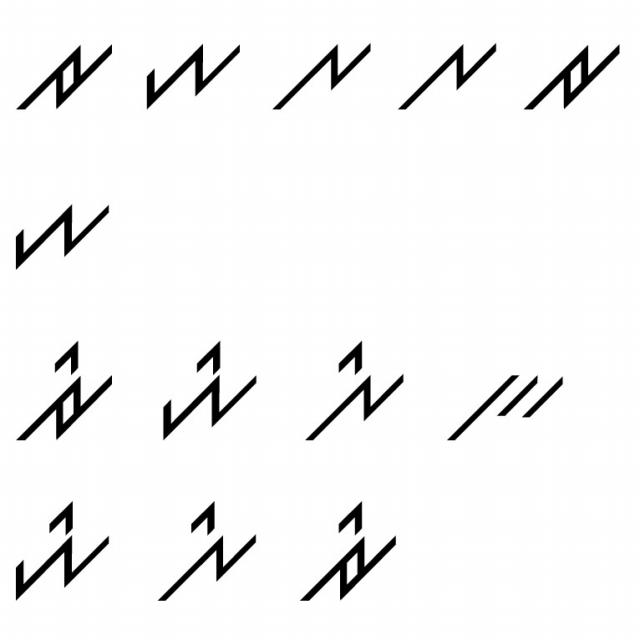la: (266, 33, 374, 118), (387, 38, 500, 112)
li: (156, 497, 268, 608), (302, 338, 412, 449)
ra: (16, 38, 120, 130), (520, 38, 622, 118)
ri: (11, 334, 118, 446), (299, 500, 406, 610)
ya: (7, 190, 117, 270), (136, 33, 247, 112)
yi: (4, 492, 115, 607), (156, 331, 266, 443)
